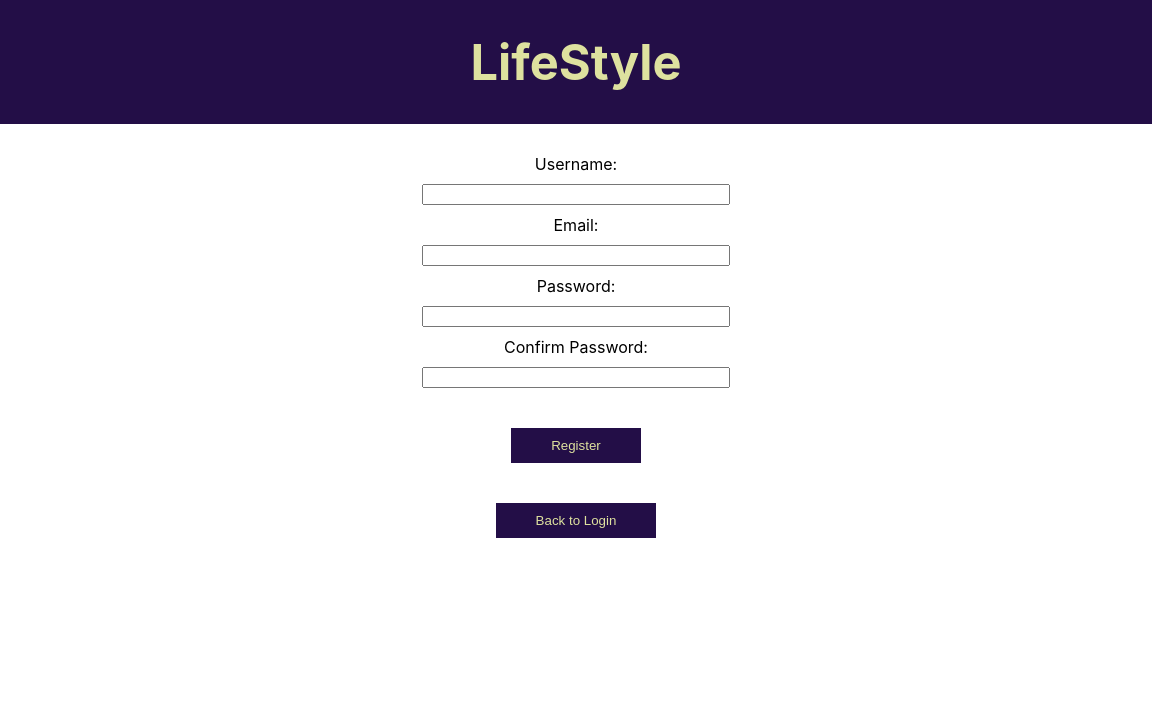
Test: user registration succeeds with valid inputs
Type "testuser" into the field labelled "Username:" at [576, 195], box [422,184,730,205]
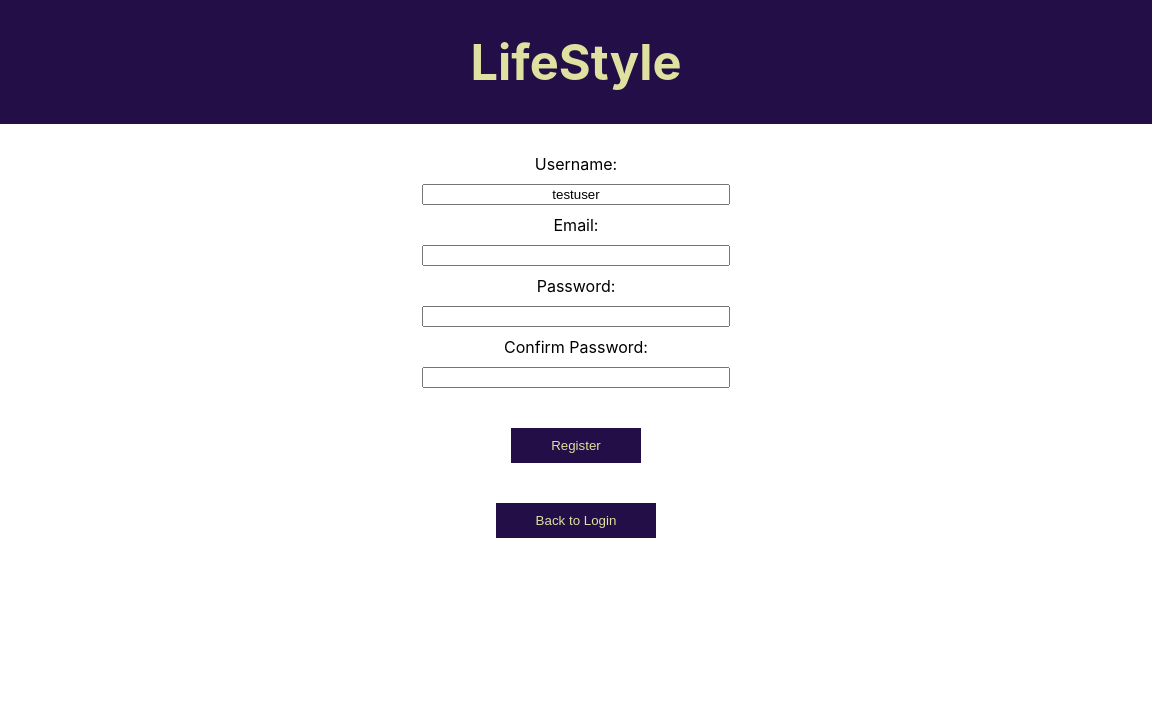
Type "testuser@example.com" into the field labelled "Email:" at [576, 256], box [422,245,730,266]
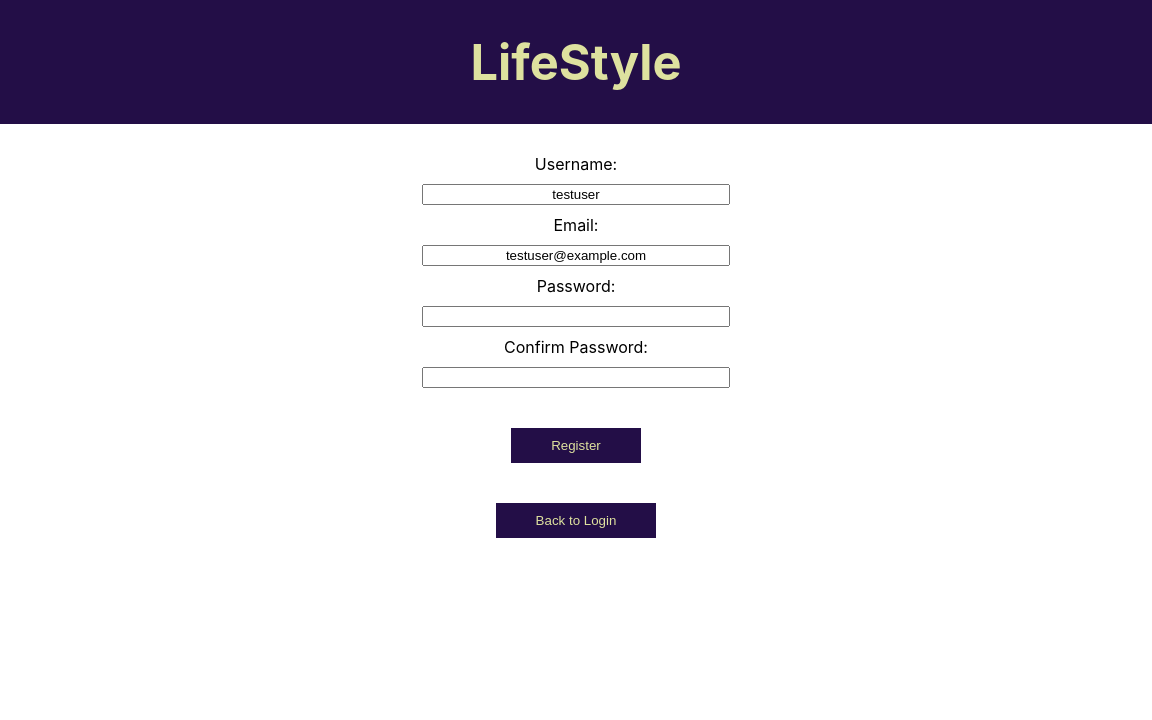
Type "Test123$" into the password field labelled "Password:" at [576, 317], box [422,306,730,327]
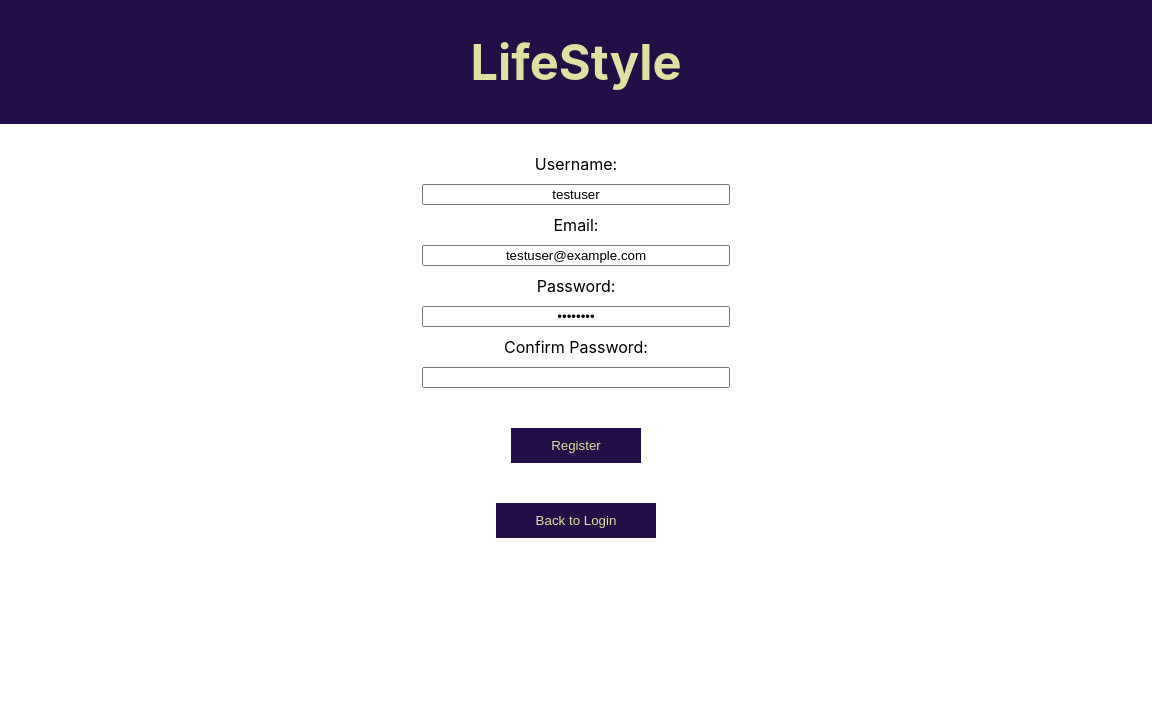
Type "Test123$" into the password field labelled "Confirm Password:" at [576, 378], box [422,367,730,388]
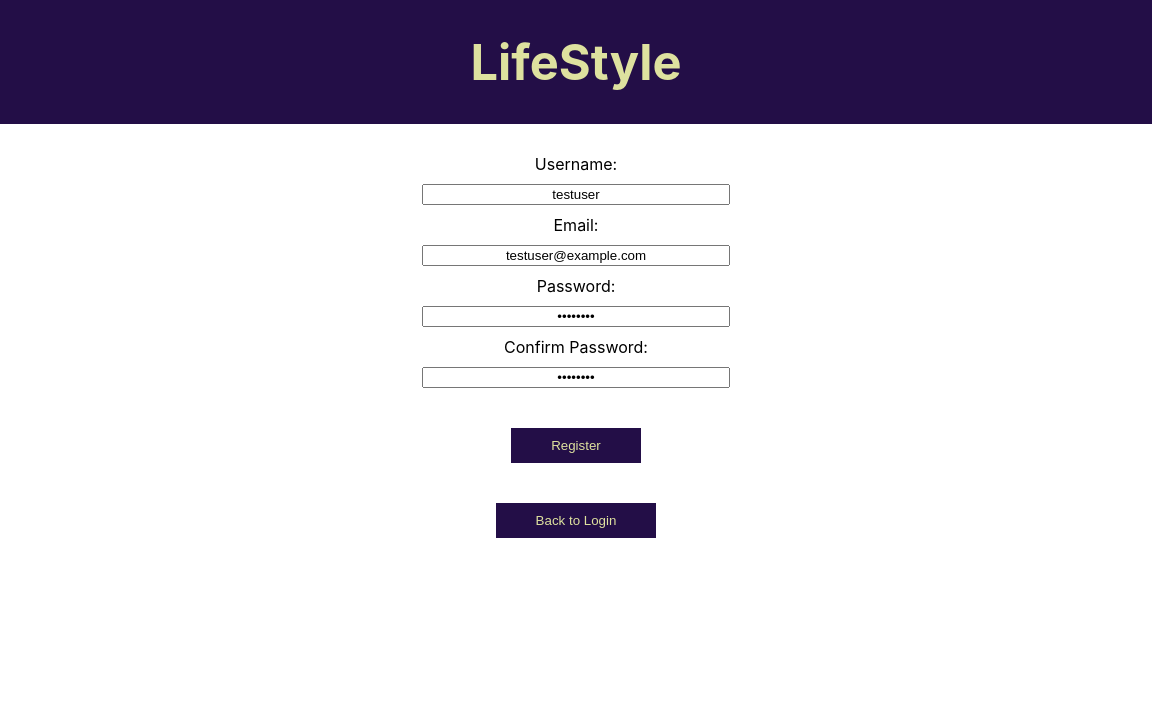
Click the button "Register" at [576, 446], box [511,428,641,463]
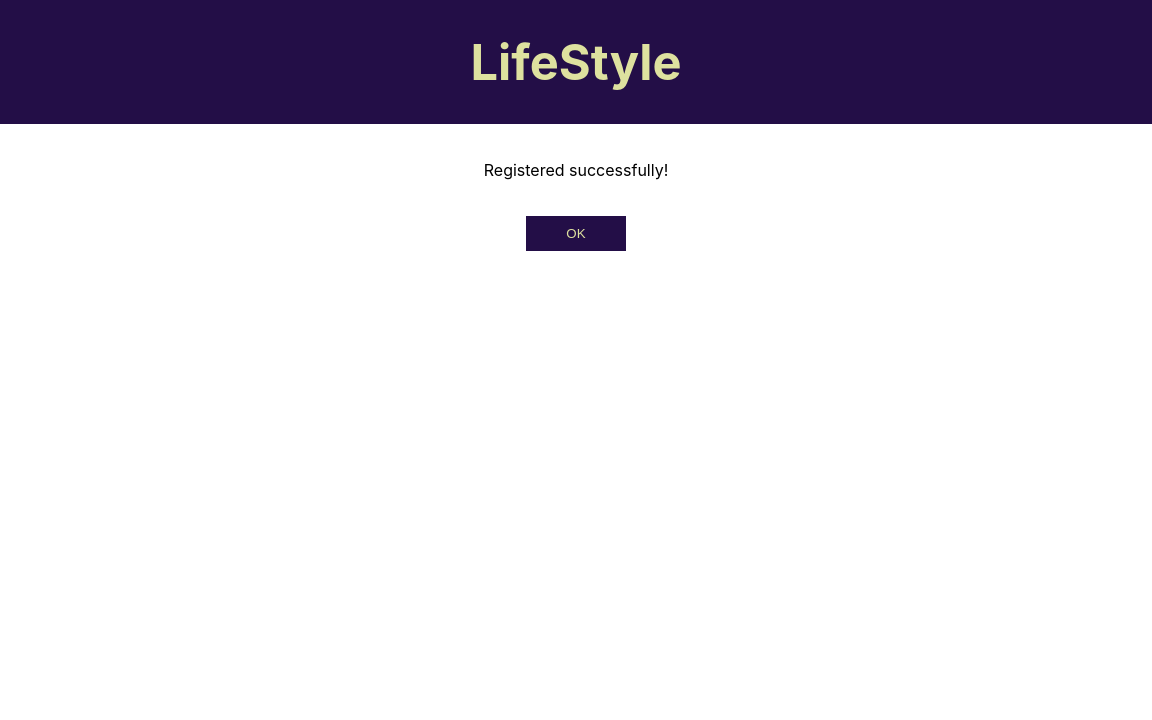
expect the text "Registered successfully!" is shown: met, box [484,160,668,180]
